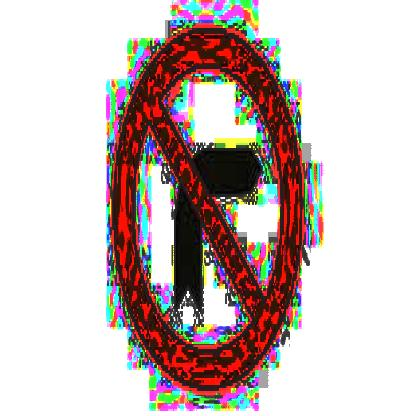No right turn: (108, 24, 304, 389)
